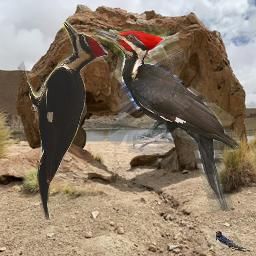Swallow: (215, 230, 256, 255)
Woodpecker: (92, 28, 241, 211), (17, 21, 108, 220)
